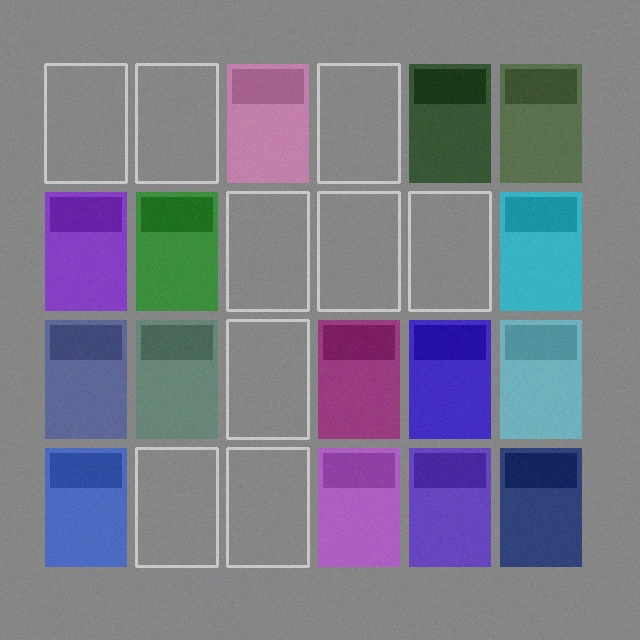space-empty: (45, 64, 126, 182), (136, 64, 217, 182), (318, 64, 399, 182), (227, 192, 308, 310), (318, 192, 399, 310), (409, 192, 490, 310), (227, 320, 308, 438), (136, 448, 217, 566), (227, 448, 308, 566)
space-occupied: (227, 64, 308, 182), (409, 64, 490, 182), (500, 64, 581, 182), (45, 192, 126, 310), (136, 192, 217, 310), (500, 192, 581, 310), (45, 320, 126, 438), (136, 320, 217, 438), (318, 320, 399, 438), (409, 320, 490, 438), (500, 320, 581, 438), (45, 448, 126, 566), (318, 448, 399, 566), (409, 448, 490, 566), (500, 448, 581, 566)
